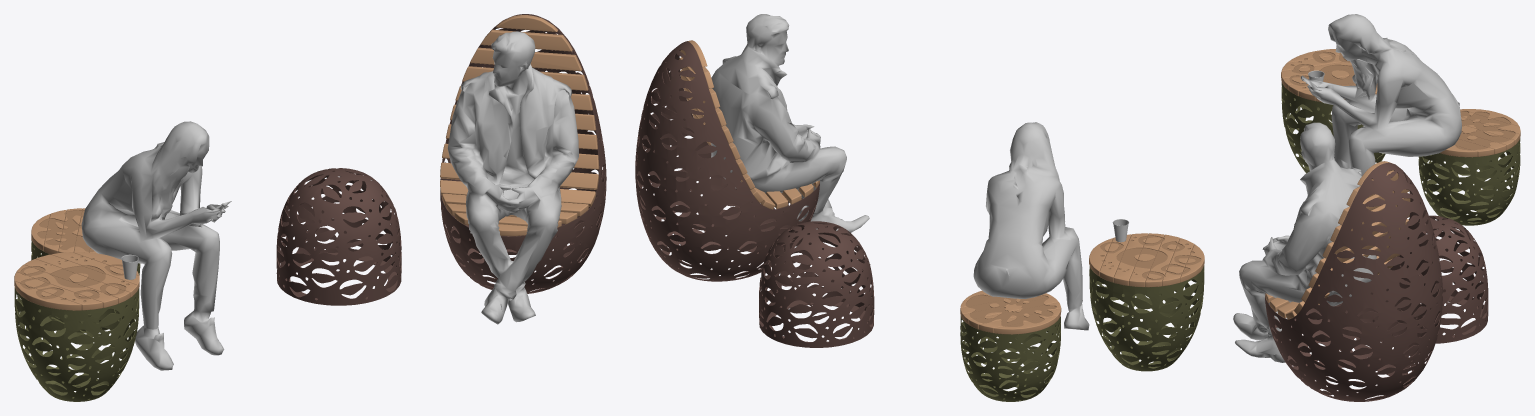
The picture shows the model from 3 angles, left to right: view 1: azimuth 30°, elevation 25°; view 2: azimuth 150°, elevation 25°; view 3: azimuth 270°, elevation 25°; orthographic projection. The views are drawn at different scales.
Parts seen in each view (by area): view 1: male sit, seated_girl2, half_pod_round, half_pod002, chair_slat011, Circle007, Top03, Top02; view 2: Circle007, seated_girl2, male sit, half_pod_round, half_pod002, half_pod01, Top03, Top02, chair_slat011; view 3: Circle007, seated_girl2, male sit, half_pod01, half_pod_round, Top02, chair_slat011, Top03, half_pod002, half_pod_trim.
Boxes of the visible parts, bbox=[...] form: male sit: bbox=[447, 31, 578, 324]; seated_girl2: bbox=[81, 121, 231, 370]; half_pod_round: bbox=[276, 168, 401, 305]; half_pod002: bbox=[14, 287, 139, 401]; chair_slat011: bbox=[440, 15, 599, 236]; Circle007: bbox=[440, 14, 606, 293]; Top03: bbox=[14, 252, 139, 310]; Top02: bbox=[31, 208, 96, 254]; Circle007: bbox=[635, 41, 819, 281]; seated_girl2: bbox=[973, 122, 1089, 330]; male sit: bbox=[711, 14, 869, 246]; half_pod_round: bbox=[759, 221, 874, 347]; half_pod002: bbox=[1089, 265, 1204, 371]; half_pod01: bbox=[960, 315, 1060, 401]; Top03: bbox=[1089, 233, 1204, 287]; Top02: bbox=[960, 290, 1061, 334]; chair_slat011: bbox=[679, 40, 819, 209]; Circle007: bbox=[1265, 162, 1442, 401]; seated_girl2: bbox=[1300, 14, 1461, 175]; male sit: bbox=[1233, 122, 1376, 362]; half_pod01: bbox=[1418, 138, 1520, 225]; half_pod_round: bbox=[1372, 215, 1488, 343]; Top02: bbox=[1440, 109, 1520, 157]; chair_slat011: bbox=[1265, 161, 1410, 319]; Top03: bbox=[1281, 49, 1377, 102]; half_pod002: bbox=[1281, 82, 1385, 173]; half_pod_trim: bbox=[1443, 157, 1496, 223].
Size of the model in its own units: 3.09 by 1.32 by 1.4.
